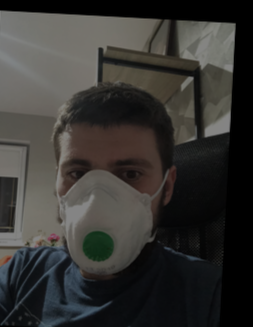with_mask: (51, 152, 163, 276)
